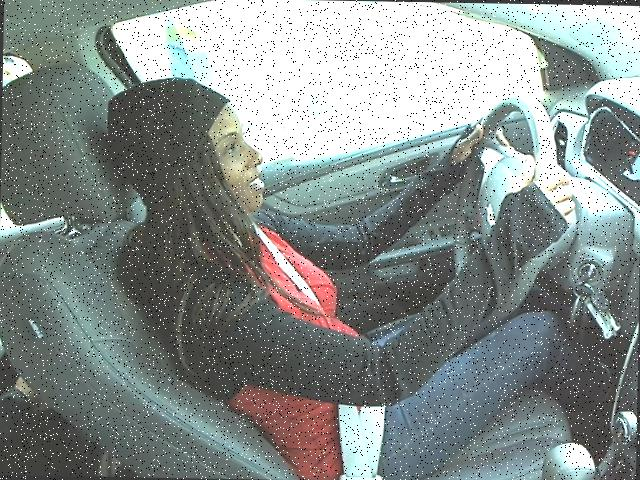c0 - Safe Driving: (99, 72, 583, 412)
